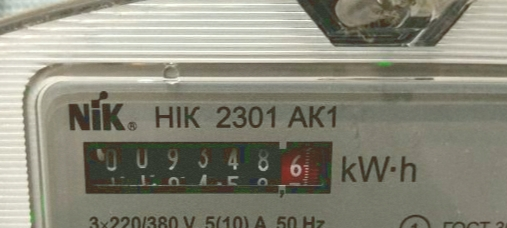0: (133, 144, 148, 167), (103, 145, 116, 171)
3: (194, 143, 208, 169)
4: (224, 143, 238, 170)
6: (286, 150, 303, 177)
8: (254, 144, 269, 172)
9: (163, 144, 178, 170)
screen: (72, 132, 341, 202)
